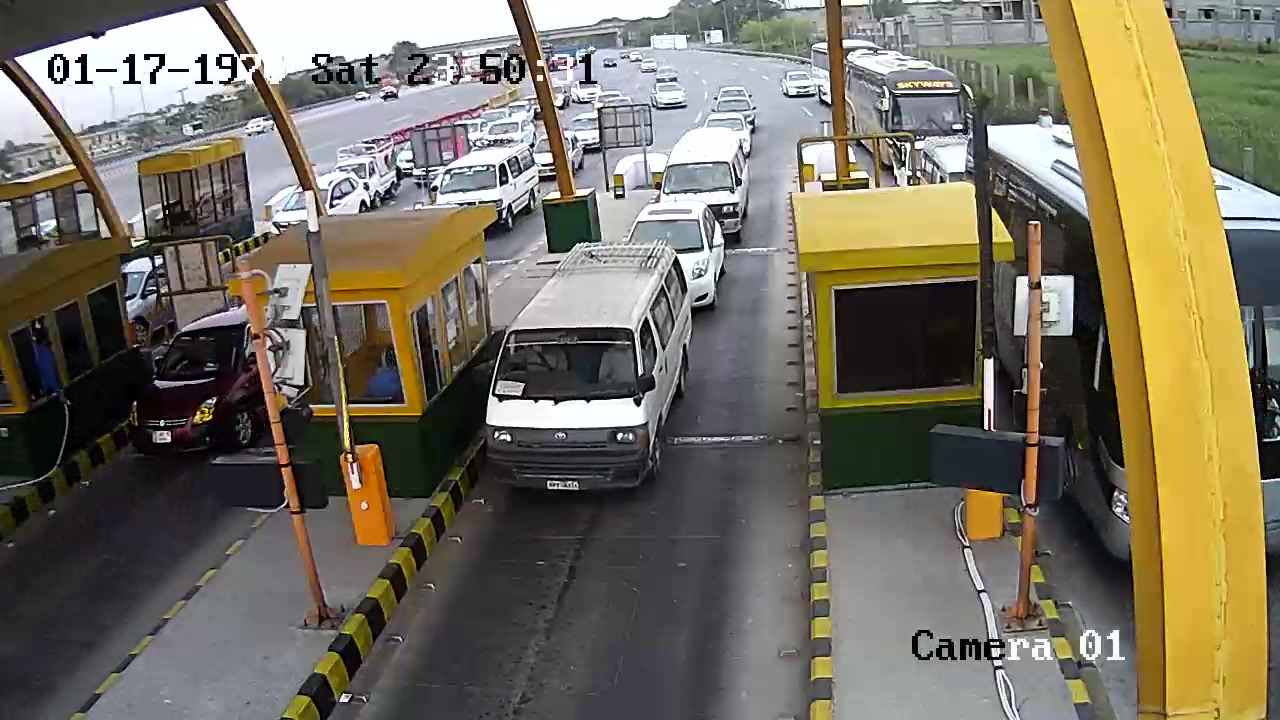F3: (480, 233, 705, 504)
